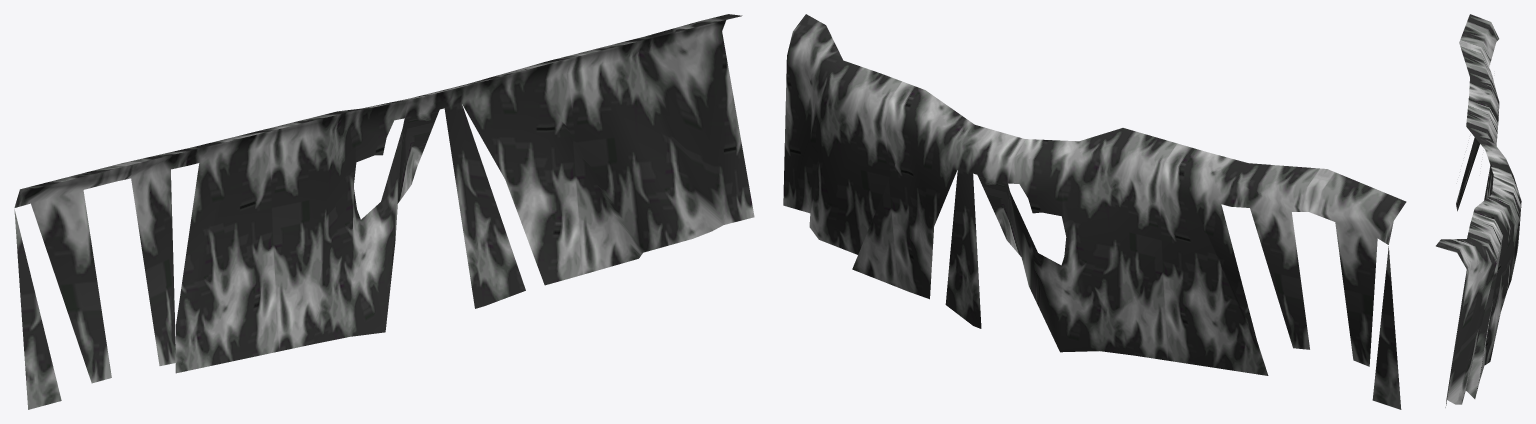
Rendered from Chapter2Model1EffectFalls02.FBX.
3 renders of one model, left to right at view 1: azimuth 30°, elevation 25°; view 2: azimuth 150°, elevation 25°; view 3: azimuth 270°, elevation 25°, orthographic. The views are drawn at different scales.
Parts seen in each view (by area): view 1: Chapter2Model1EffectFalls02; view 2: Chapter2Model1EffectFalls02; view 3: Chapter2Model1EffectFalls02.
Boxes of the visible parts, x1=… form: Chapter2Model1EffectFalls02: x1=14, y1=14, x2=754, y2=409; Chapter2Model1EffectFalls02: x1=783, y1=14, x2=1406, y2=409; Chapter2Model1EffectFalls02: x1=1436, y1=14, x2=1521, y2=407.
Size of the model in its own units: 624 by 226 by 88.75.
